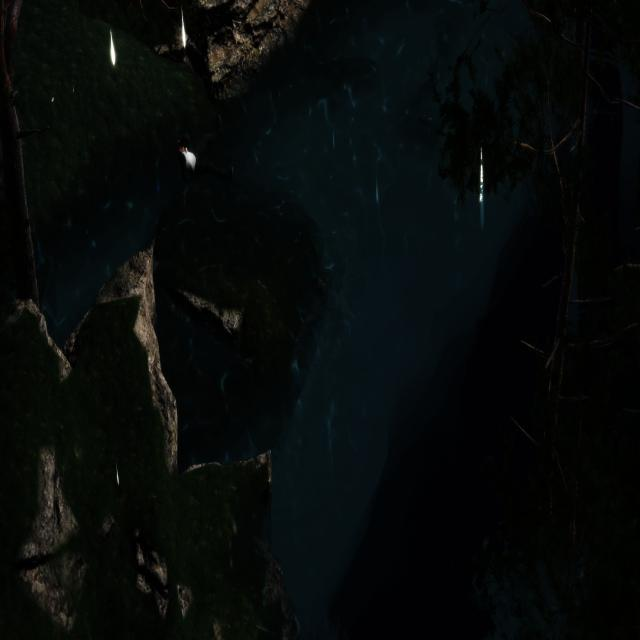Human: (176, 100, 240, 196)
